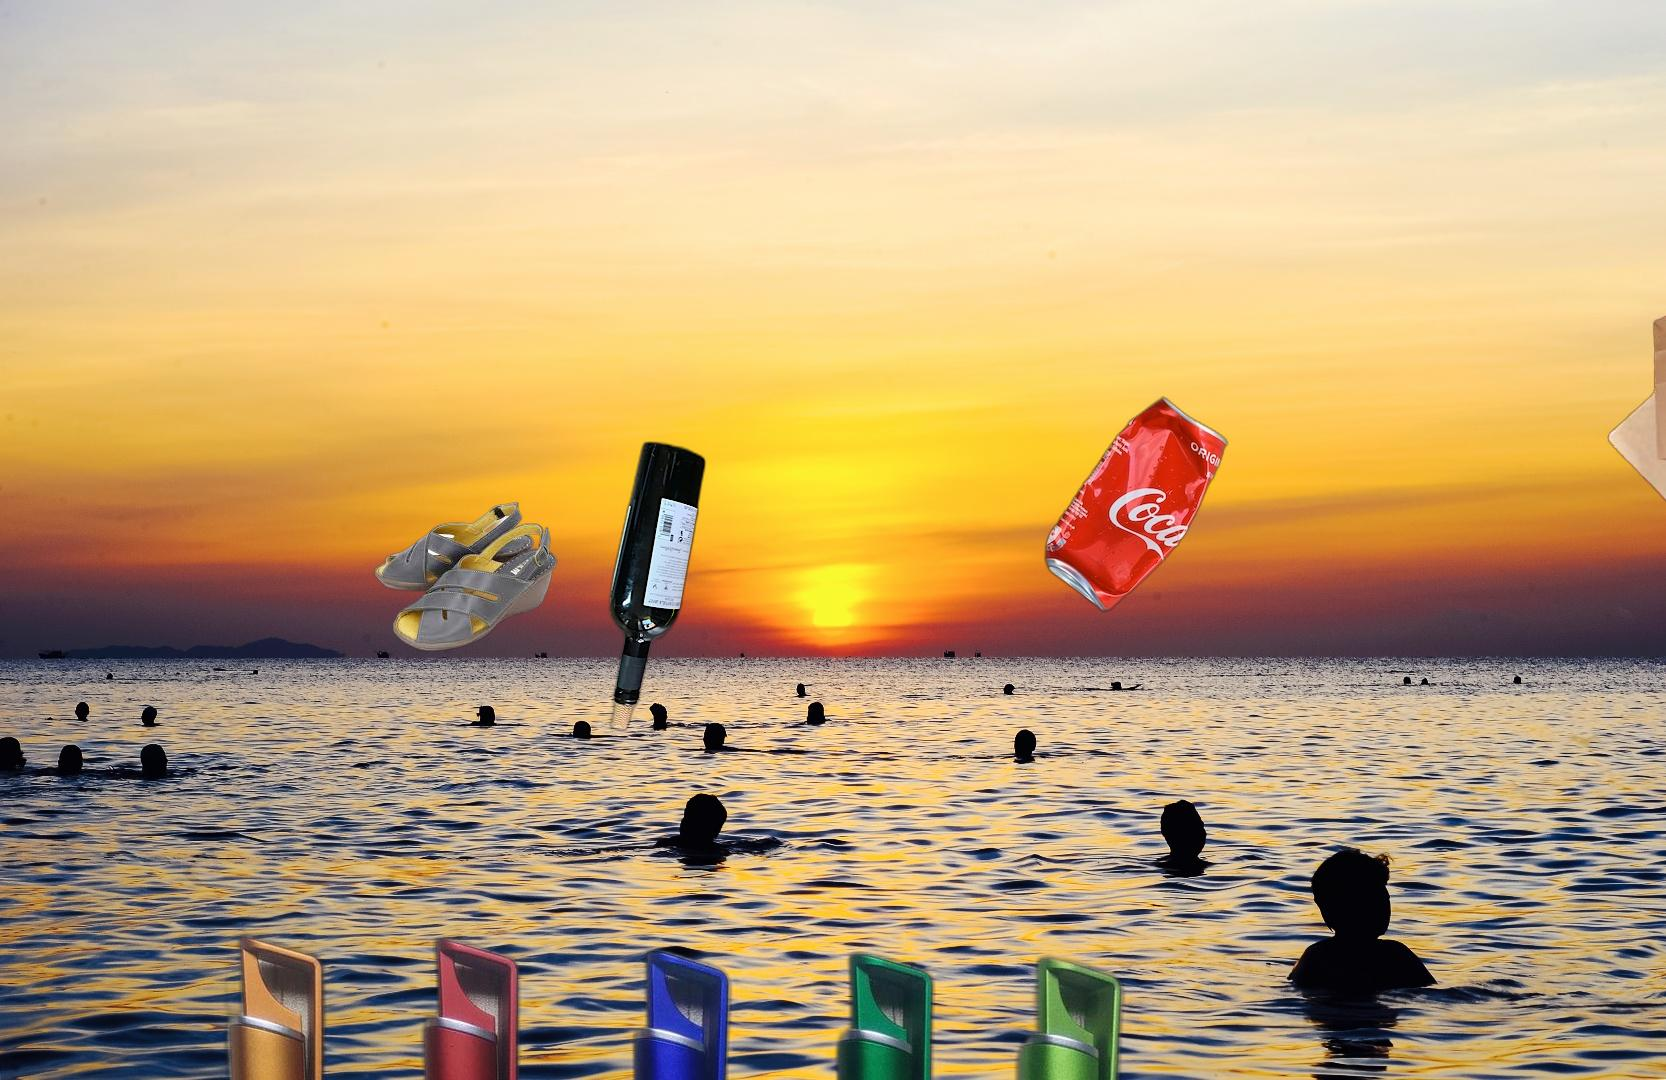glass: (605, 436, 710, 737)
metal-cans: (1041, 392, 1232, 617)
paper-bag: (1606, 302, 1666, 554)
penholder: (219, 901, 1166, 1080)
shoes: (372, 499, 560, 654)
